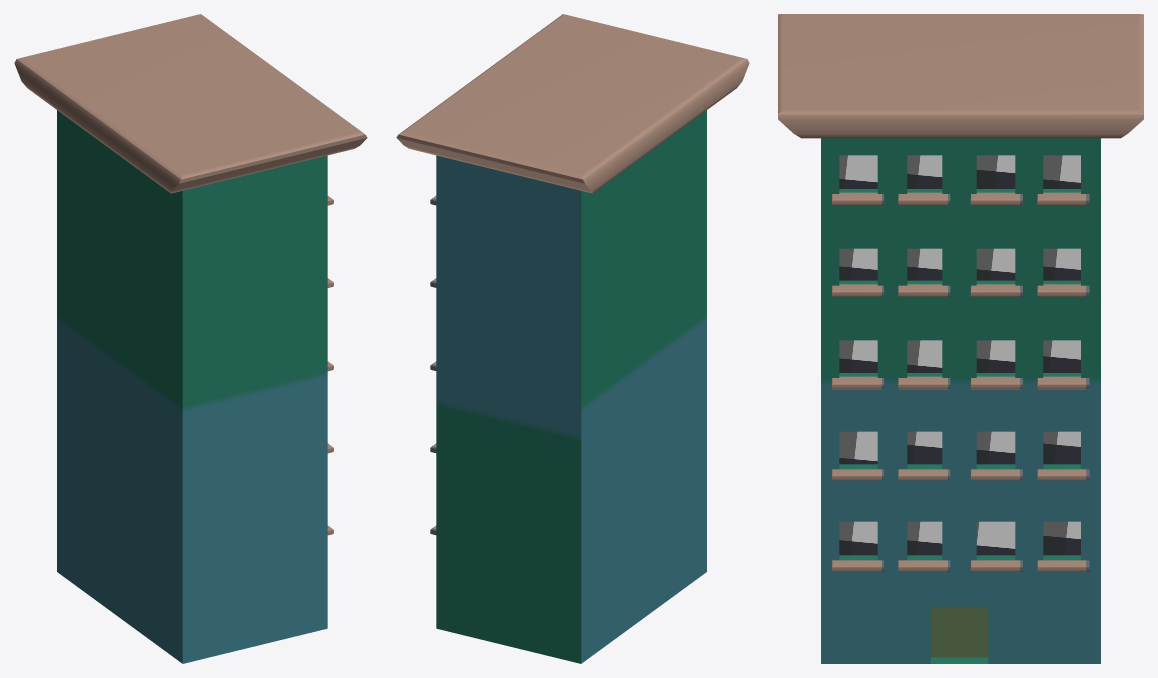
Rendered from BuildingTall_05A.fbx.
3 views of the same model, side by side, from view 1: azimuth 30°, elevation 25°; view 2: azimuth 150°, elevation 25°; view 3: azimuth 270°, elevation 25° (orthographic). The views are drawn at different scales.
Visible parts, largest first — view 1: polySurface876; view 2: polySurface876; view 3: polySurface876.
Part boxes in pixels (x1=…): polySurface876: x1=14, y1=14, x2=367, y2=663; polySurface876: x1=396, y1=14, x2=749, y2=663; polySurface876: x1=778, y1=14, x2=1143, y2=663.
Bounding box in the file's own units: 5.59 × 14.33 × 8.46.
